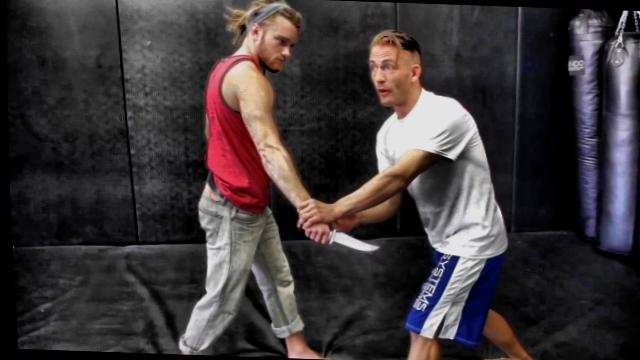knife: (294, 220, 383, 260)
